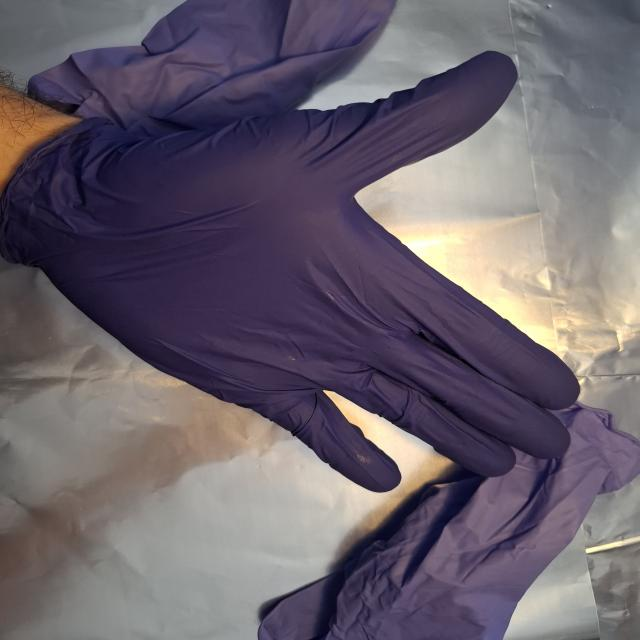glove_on: (3, 46, 588, 496)
